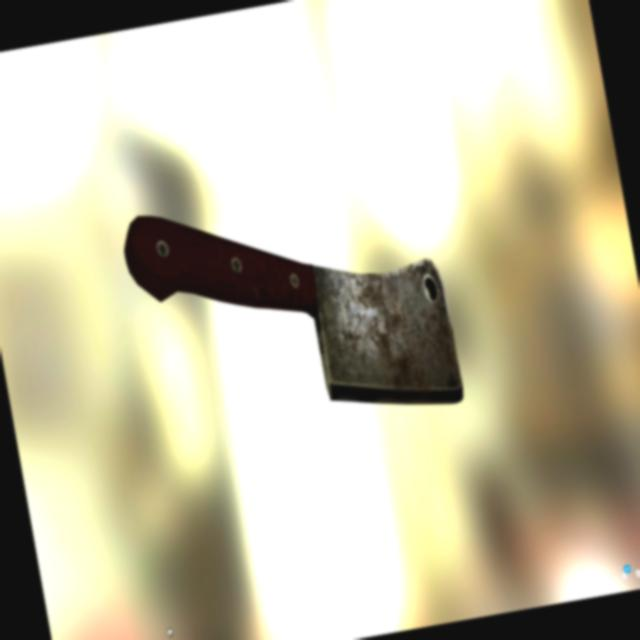cleaver: (117, 170, 472, 461)
